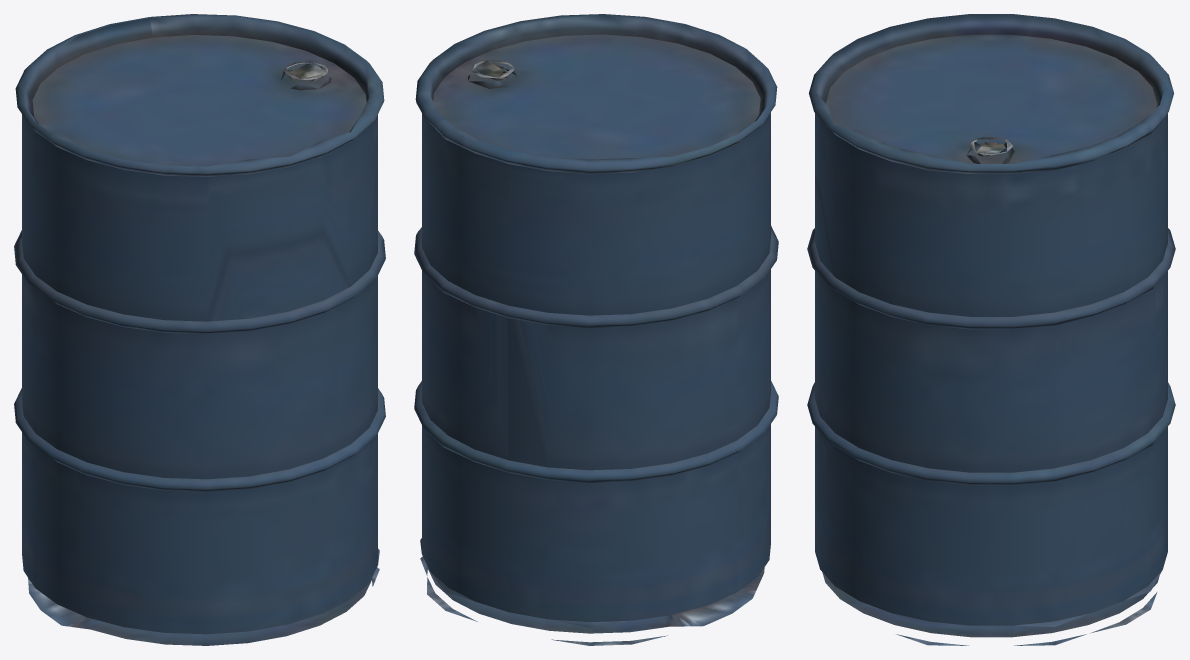
Rendered from barrel3_lo.glb.
The picture shows the model from 3 angles, left to right: view 1: azimuth 30°, elevation 25°; view 2: azimuth 150°, elevation 25°; view 3: azimuth 270°, elevation 25°; orthographic projection.
Visible parts, largest first — view 1: merged; view 2: merged; view 3: merged.
Part boxes in pixels (x1,y1,x2,y2): merged: (14, 14, 385, 645); merged: (414, 14, 778, 645); merged: (807, 14, 1175, 645).
Bounding box in the file's own units: 0.6339 × 0.9305 × 0.6386.
1 material, 1 textured.
